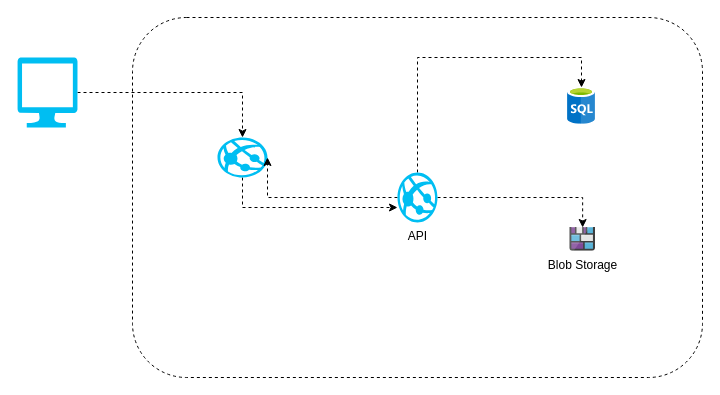
Image size: 720x395. Some labels were removed from this diagram. The box of each missing label's shape, as (x1, y1, x2, y2) in pixels:
database: (567, 87, 595, 124)
Web App: (217, 137, 267, 177)
